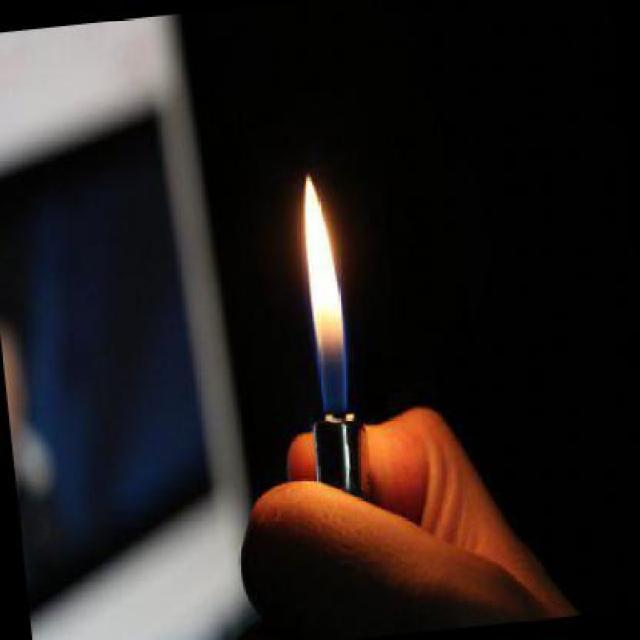Fire: (283, 147, 364, 406), (333, 407, 333, 419)
